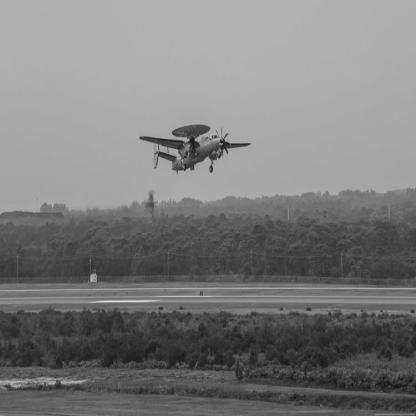E2: (140, 125, 252, 176)
